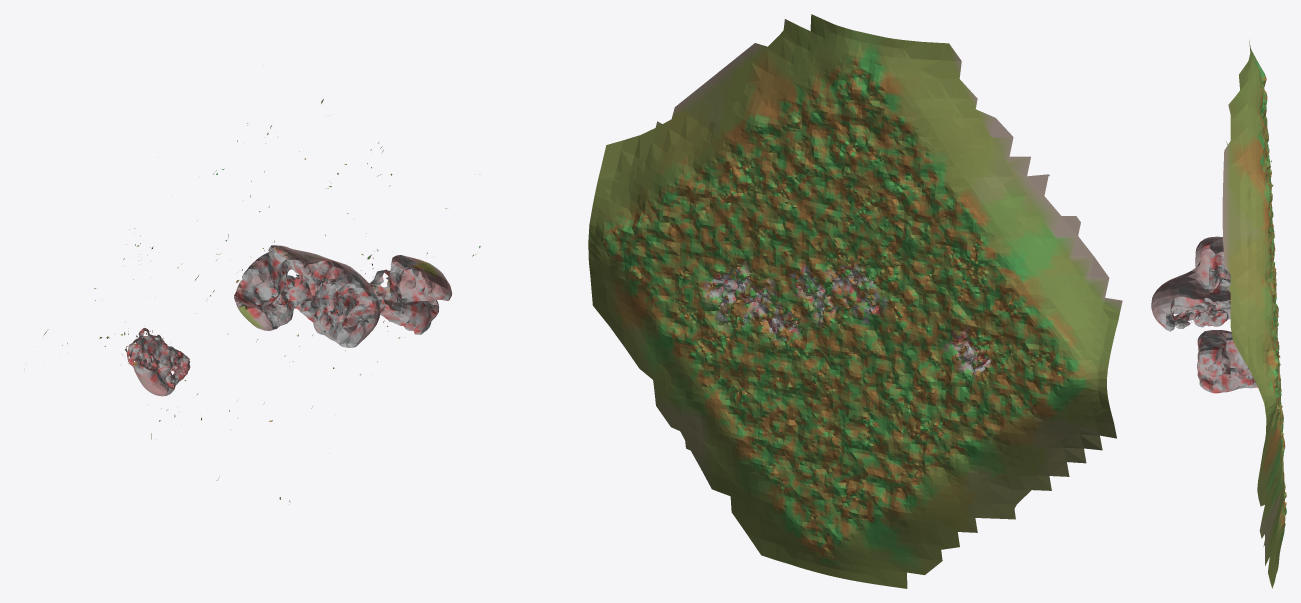
The picture shows the model from 3 angles, left to right: view 1: azimuth 30°, elevation 25°; view 2: azimuth 150°, elevation 25°; view 3: azimuth 270°, elevation 25°; orthographic projection. The views are drawn at different scales.
Visible parts, largest first — view 1: geometry_0; view 2: geometry_0; view 3: geometry_0.
Boxes of the visible parts, x1,y1,x2,y2 form: geometry_0: (44,99,480,502); geometry_0: (588,14,1122,588); geometry_0: (1151,40,1286,588).
Size of the model in its own units: 1665 by 1665 by 410.
